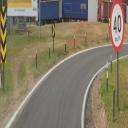speed_limit_40: (110, 0, 125, 53)
